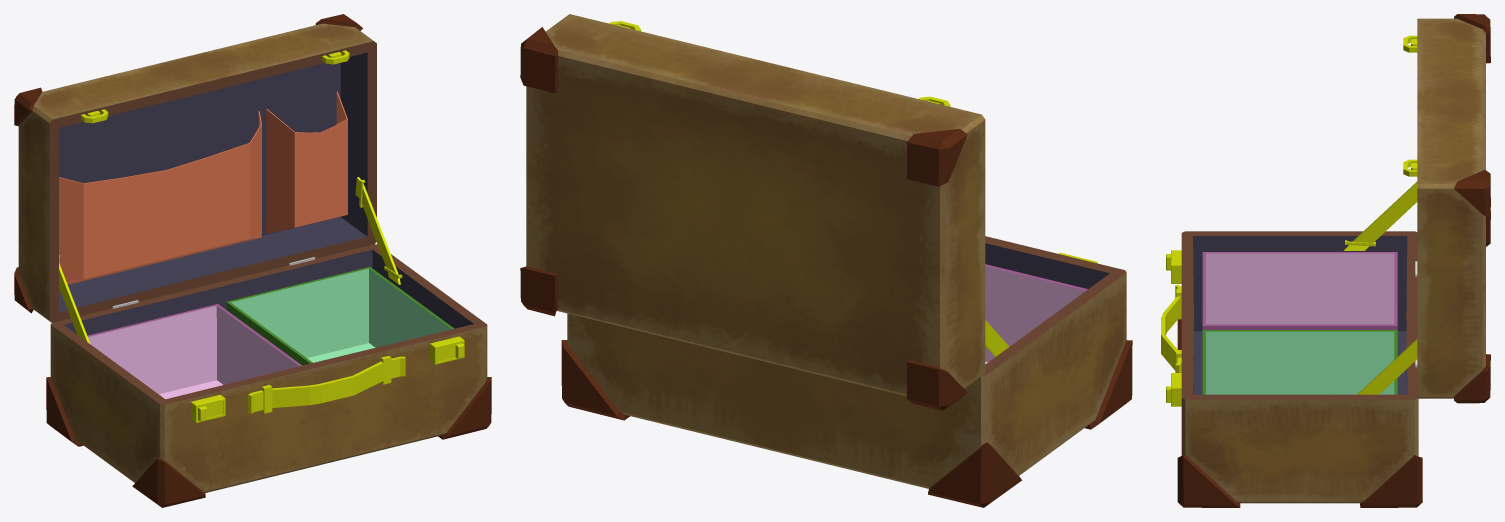
Rendered from vintagge lugage.fbx.
3 renders of one model, left to right at view 1: azimuth 30°, elevation 25°; view 2: azimuth 150°, elevation 25°; view 3: azimuth 270°, elevation 25°, orthographic. The views are drawn at different scales.
Visible parts, largest first — view 1: case, clothes holder, gadget holder, gift holder, tickets holder, hand holder, holder, safe lock, safe pin; view 2: case, gift holder; view 3: case, gift holder, gadget holder, holder, hand holder, safe lock, safe pin.
Part boxes in pixels (x1,y1,x2,y2): case: [14, 14, 491, 507]; clothes holder: [59, 111, 261, 284]; gadget holder: [226, 267, 454, 365]; gift holder: [87, 304, 301, 399]; tickets holder: [266, 91, 347, 233]; hand holder: [248, 356, 405, 413]; holder: [59, 177, 402, 344]; safe lock: [191, 336, 464, 422]; safe pin: [81, 50, 349, 123]; case: [520, 14, 1132, 507]; gift holder: [985, 264, 1087, 364]; case: [1177, 14, 1490, 507]; gift holder: [1202, 252, 1397, 329]; gadget holder: [1202, 330, 1397, 394]; holder: [1343, 181, 1417, 394]; hand holder: [1161, 284, 1181, 372]; safe lock: [1166, 250, 1181, 406]; safe pin: [1403, 35, 1417, 176].
Size of the model in its own units: 343 by 305 by 278.
